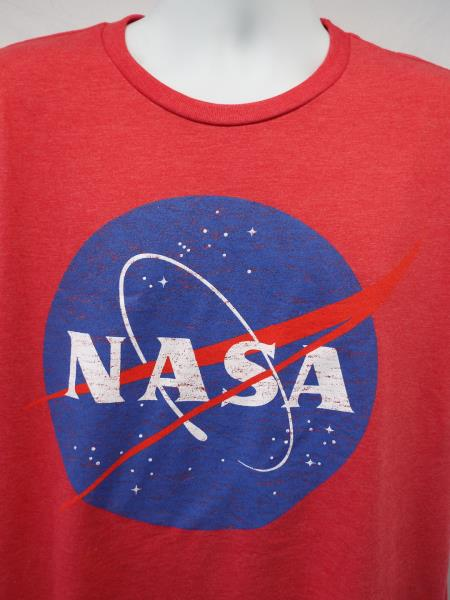NASA: (6, 194, 429, 531)
